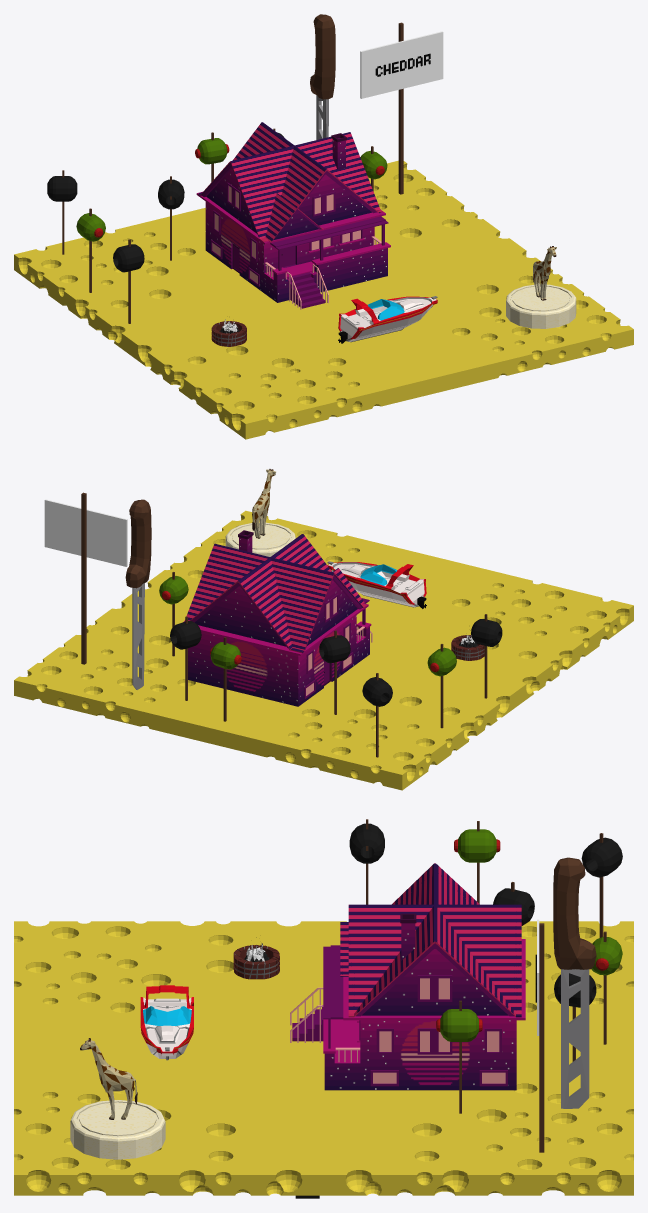
3 views of the same model, one above another, from view 1: azimuth 30°, elevation 25°; view 2: azimuth 150°, elevation 25°; view 3: azimuth 270°, elevation 25° (orthographic). The views are drawn at different scales.
Parts seen in each view (by area): view 1: Cube.022, Cube.156, Cube.023, VEHICLES_BOAT, Cylinder.016, Cube.024, Sphere.017, Sphere.016, OBJRANDOM_CAMPFIRE, Sphere.018, Sphere.022, Sphere.020 (+2 smaller); view 2: Cube.022, Cube.156, Cube.023, Cube.024, VEHICLES_BOAT, Cylinder.016, Sphere.017, Sphere.022, Sphere.020, Sphere.021, Sphere.018, Sphere.016 (+3 smaller); view 3: Cube.022, Cube.156, Cube.024, Cylinder.016, VEHICLES_BOAT, Cube.023, Sphere.016, Sphere.019, ANIMAL_JIRAFA, OBJRANDOM_CAMPFIRE, Sphere.018, Sphere.017 (+3 smaller).
Boxes of the visible parts, x1,y1,x2,y2 form: Cube.022: (14,160,633,439); Cube.156: (196,122,390,309); Cube.023: (360,22,443,194); VEHICLES_BOAT: (338,296,437,343); Cylinder.016: (506,284,576,328); Cube.024: (310,14,335,139); Sphere.017: (113,239,144,323); Sphere.016: (47,170,77,254); OBJRANDOM_CAMPFIRE: (211,319,246,346); Sphere.018: (76,208,105,292); Sphere.022: (195,132,229,181); Sphere.020: (158,176,184,260); Cube.022: (14,510,633,790); Cube.156: (183,530,372,706); Cube.023: (44,492,127,664); Cube.024: (125,499,151,689); VEHICLES_BOAT: (327,561,426,608); Cylinder.016: (225,522,295,556); Sphere.017: (471,614,502,698); Sphere.022: (210,637,241,721); Sphere.020: (319,630,350,714); Sphere.021: (170,616,201,700); Sphere.018: (427,644,456,728); Sphere.016: (362,673,392,757); Cube.022: (14,921,633,1195); Cube.156: (290,863,525,1090); Cube.024: (553,857,596,1108); Cylinder.016: (70,1100,165,1159); VEHICLES_BOAT: (140,985,193,1060); Cube.023: (535,919,544,1152); Sphere.016: (581,833,622,937); Sphere.019: (436,1000,482,1113); ANIMAL_JIRAFA: (80,1038,137,1119); OBJRANDOM_CAMPFIRE: (233,937,279,979); Sphere.018: (454,821,500,903); Sphere.017: (349,819,384,904).
Bounding box in the file's own units: 3917 × 2015 × 4000.
Materials: 35 (5 with a texture image).
